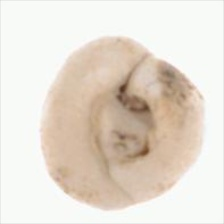L3: (92, 82, 154, 172)
L4: (40, 36, 205, 212)
